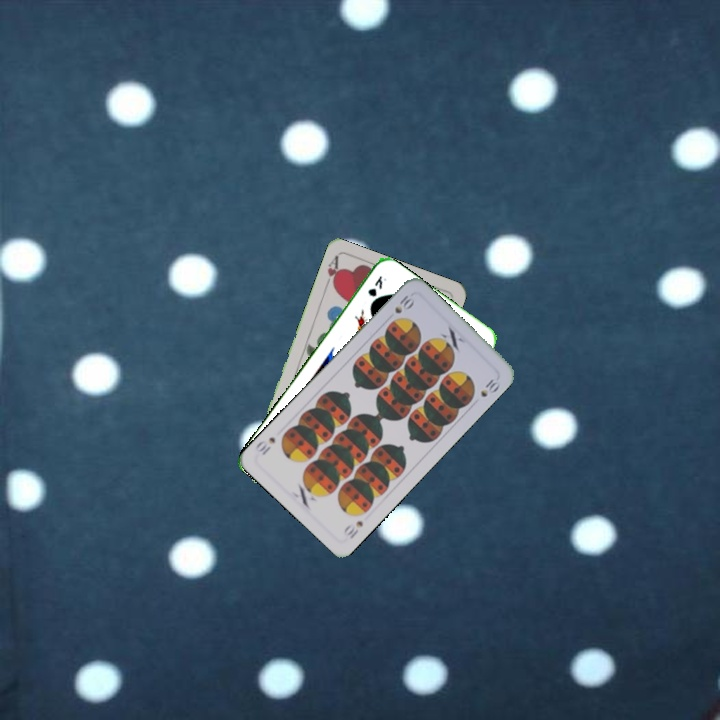GK: (364, 272, 389, 299)
HA: (320, 252, 343, 292)
S10: (339, 517, 366, 542), (390, 291, 416, 316)
